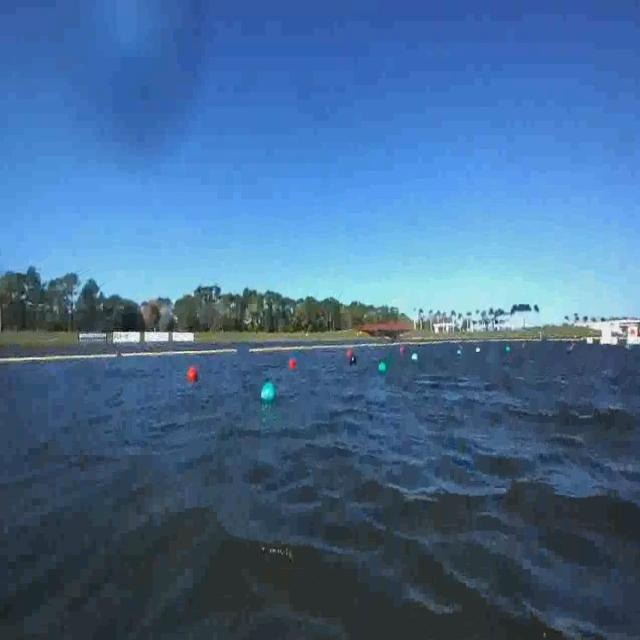green-buoy: (263, 380, 278, 402), (380, 361, 387, 374)
red-buoy: (187, 365, 198, 383), (289, 359, 296, 369)
red-column-buoy: (348, 348, 353, 361)
